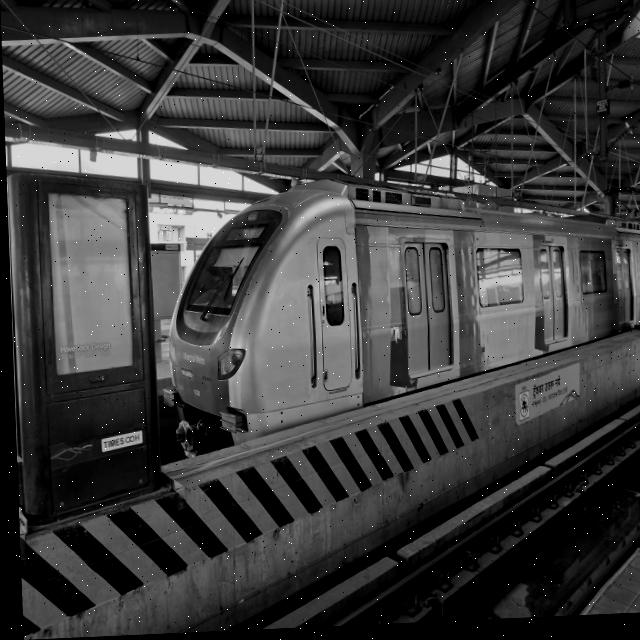train: (164, 137, 640, 505)
